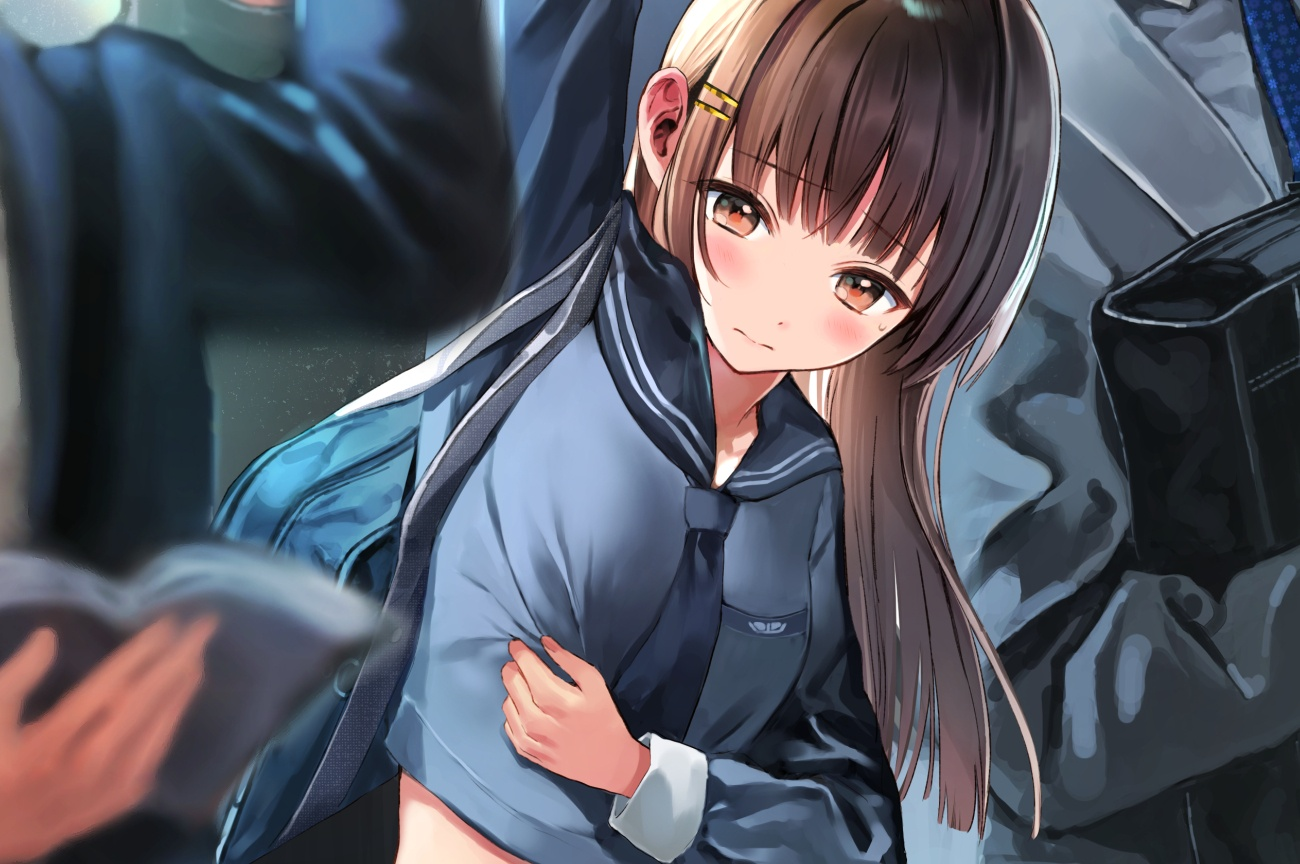纸片人正脸: (624, 0, 1049, 379)
